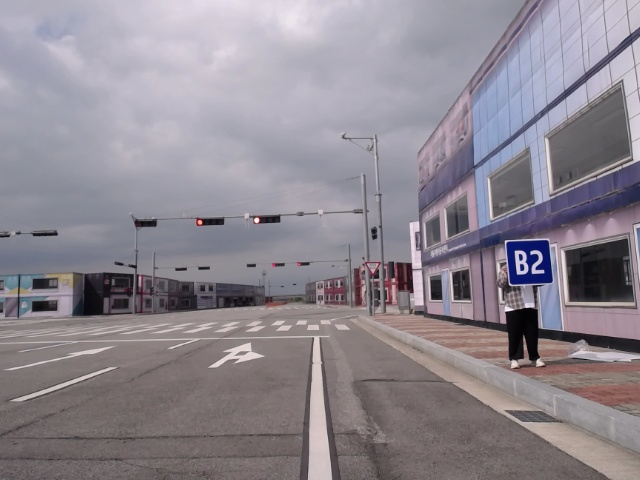delivery_b2: (506, 241, 556, 287)
red_4: (196, 215, 226, 226), (251, 215, 283, 225), (296, 260, 312, 268), (271, 262, 287, 269)
